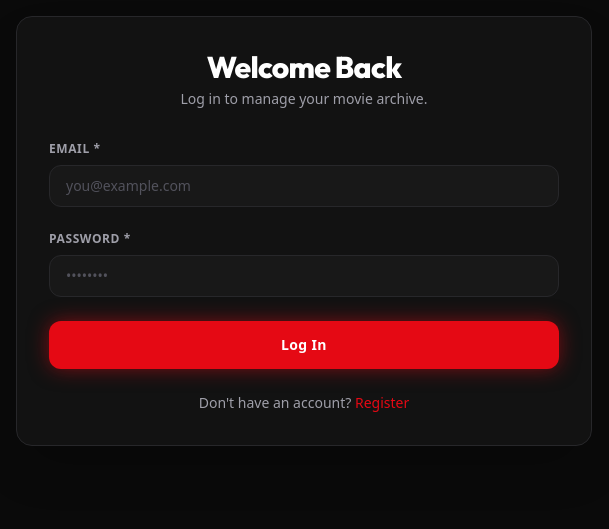
it: LoginForm › falls back to a generic message when the error is not an Error
The width and height of the screenshot is (609, 529).
Type "jane@example.com" into the field with placeholder "you@example.com". click: (304, 186)
box: [49,165,559,207]
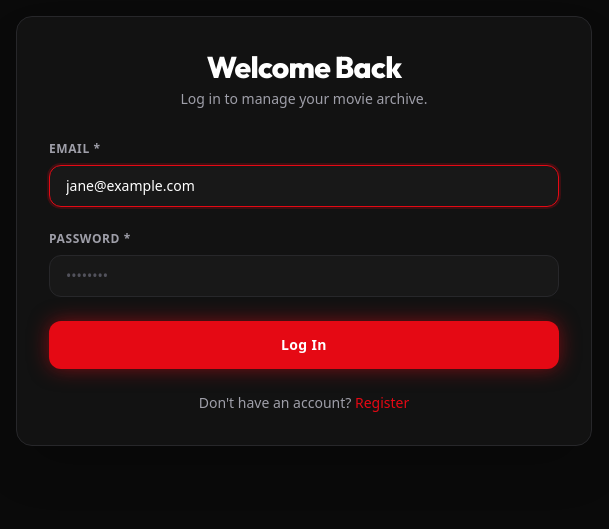
Type "secret123" into the password field with placeholder "••••••••". click: (304, 276)
box: [49,255,559,297]
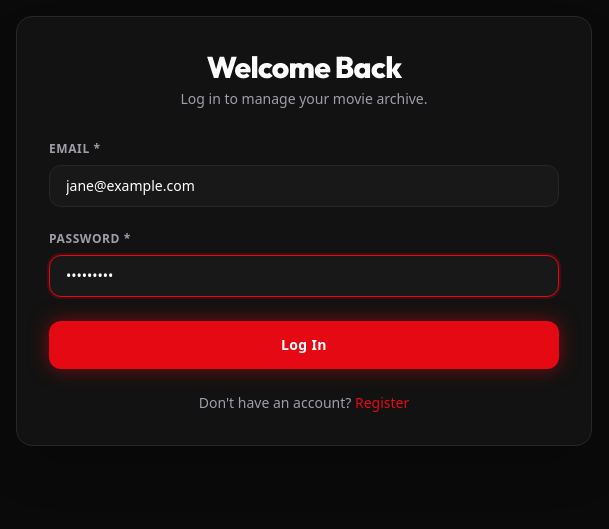
Click the button "Log In". click: click(304, 345)
box: [49,321,559,369]
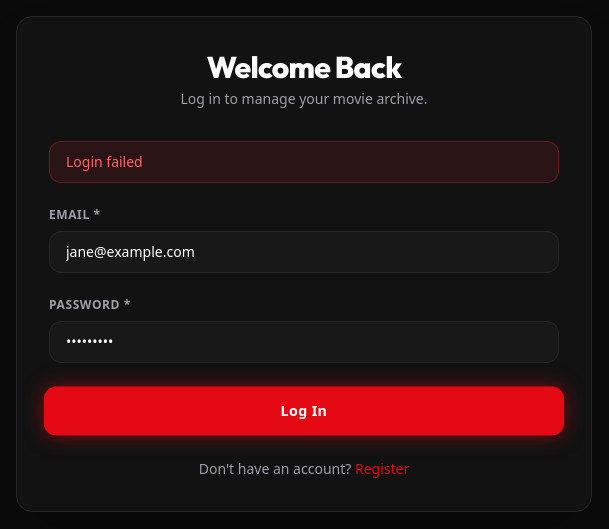
Result: the text "Login failed" is shown at [49,141,559,183]
